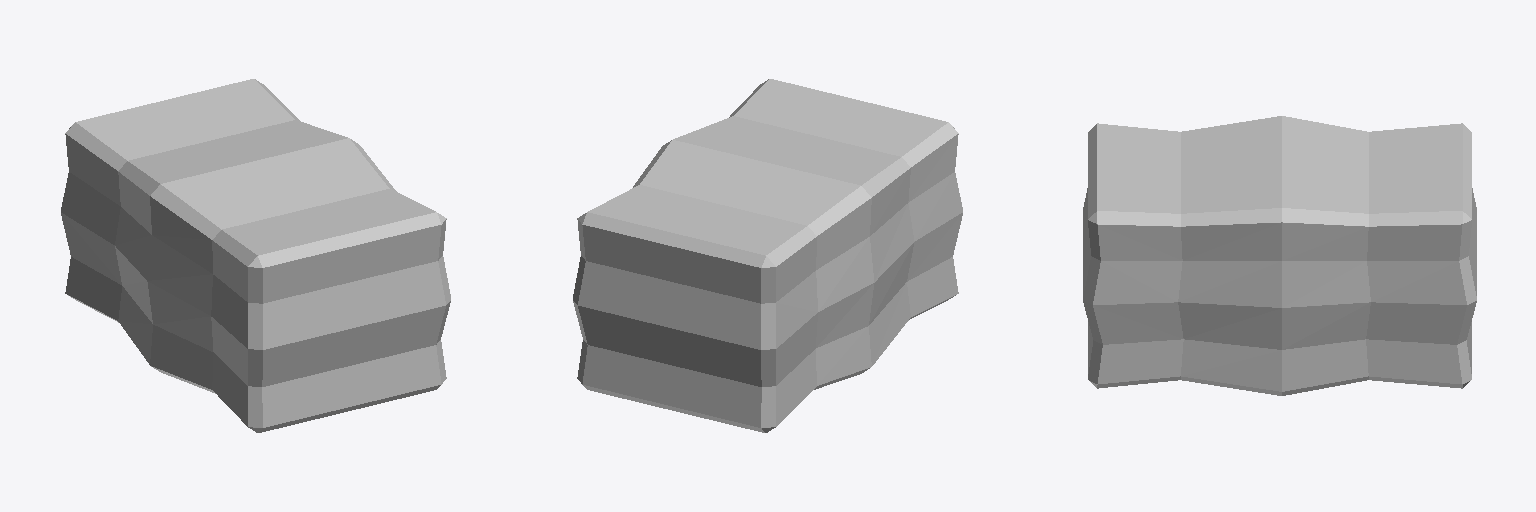
File: HayBale.obj
3 views of the same model, side by side, from view 1: azimuth 30°, elevation 25°; view 2: azimuth 150°, elevation 25°; view 3: azimuth 270°, elevation 25° (orthographic).
Visible parts, largest first — view 1: pCube1_pCube1; view 2: pCube1_pCube1; view 3: pCube1_pCube1.
Part boxes in pixels (left/top/right/bottom): pCube1_pCube1: left=61, top=79, right=450, bottom=432; pCube1_pCube1: left=573, top=79, right=962, bottom=432; pCube1_pCube1: left=1083, top=116, right=1476, bottom=395.
Bounding box in the file's own units: 51.15 × 42.82 × 81.3.